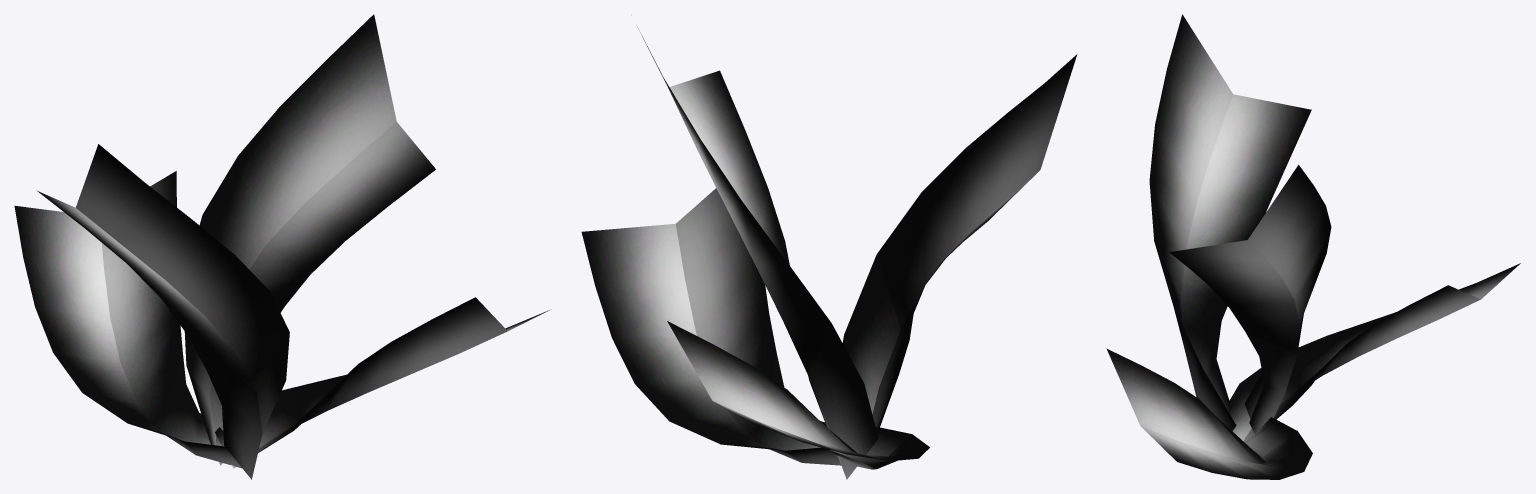
File: vfx_kurp_0961.dae
3 renders of one model, left to right at view 1: azimuth 30°, elevation 25°; view 2: azimuth 150°, elevation 25°; view 3: azimuth 270°, elevation 25°, orthographic. The views are drawn at different scales.
Visible parts, largest first — view 1: vfx_kurp_0961; view 2: vfx_kurp_0961; view 3: vfx_kurp_0961.
Boxes of the visible parts, x1,y1,x2,y2 form: vfx_kurp_0961: [14, 14, 549, 479]; vfx_kurp_0961: [581, 26, 1077, 479]; vfx_kurp_0961: [1106, 14, 1520, 479].
Size of the model in its own units: 7.83 by 6.87 by 6.54.
1 material, 1 textured.
